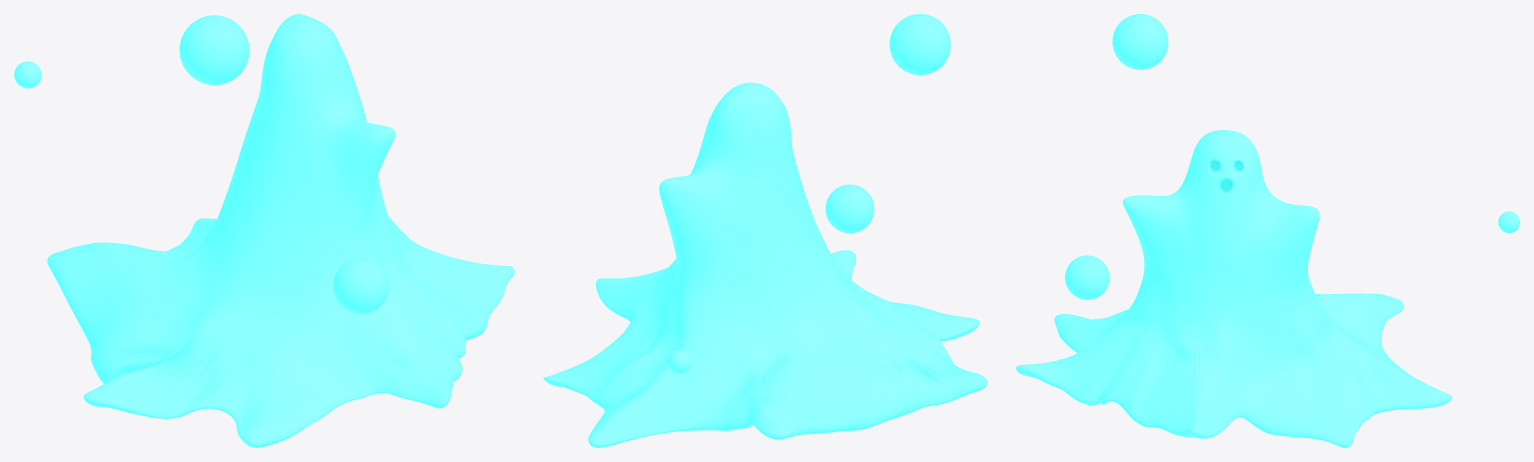
Rendered from приведение итог.fbx.
3 renders of one model, left to right at view 1: azimuth 30°, elevation 25°; view 2: azimuth 150°, elevation 25°; view 3: azimuth 270°, elevation 25°, orthographic. The views are drawn at different scales.
Visible parts, largest first — view 1: Icosphere, Icosphere.002, Icosphere.001, Icosphere.003; view 2: Icosphere, Icosphere.002, Icosphere.001, Icosphere.003; view 3: Icosphere, Icosphere.002, Icosphere.001.
Boxes of the visible parts, x1=… form: Icosphere: x1=47, y1=14, x2=514, y2=447; Icosphere.002: x1=179, y1=15, x2=249, y2=85; Icosphere.001: x1=333, y1=258, x2=388, y2=313; Icosphere.003: x1=14, y1=61, x2=41, y2=88; Icosphere: x1=543, y1=82, x2=987, y2=447; Icosphere.002: x1=889, y1=14, x2=950, y2=75; Icosphere.001: x1=825, y1=184, x2=874, y2=233; Icosphere.003: x1=668, y1=350, x2=691, y2=373; Icosphere: x1=1016, y1=130, x2=1452, y2=447; Icosphere.002: x1=1112, y1=14, x2=1168, y2=69; Icosphere.001: x1=1065, y1=255, x2=1109, y2=299.
Bounding box in the file's own units: 1807 × 1574 × 2259.
